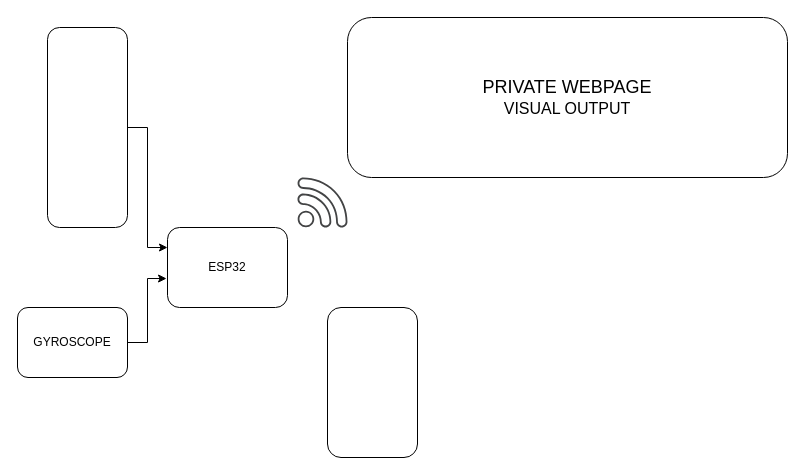
This 805x475 diagram has some shape labels left out. Each missing label, with the centre of its shape:
FLEX SENSORS: the point at 87,127
SPEAKER AUDIO OUTPUT: the point at 372,382
